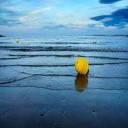yellow: (74, 56, 88, 74), (15, 38, 19, 42)
